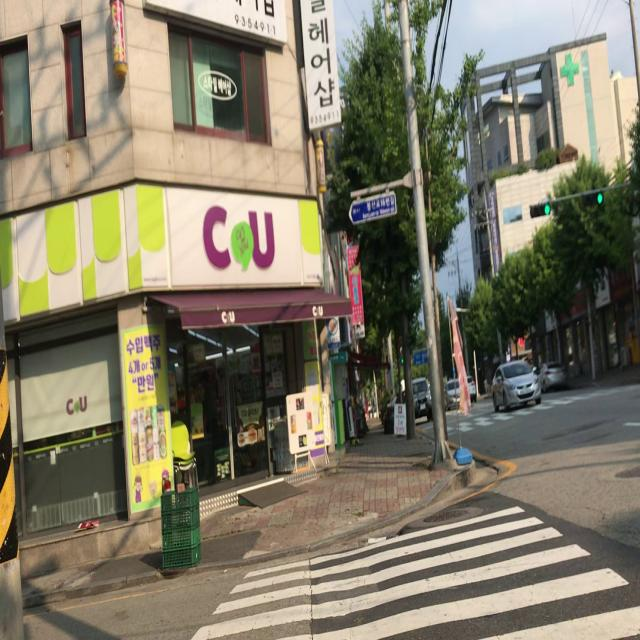횡단보도: (188, 505, 640, 640), (443, 384, 640, 439)
